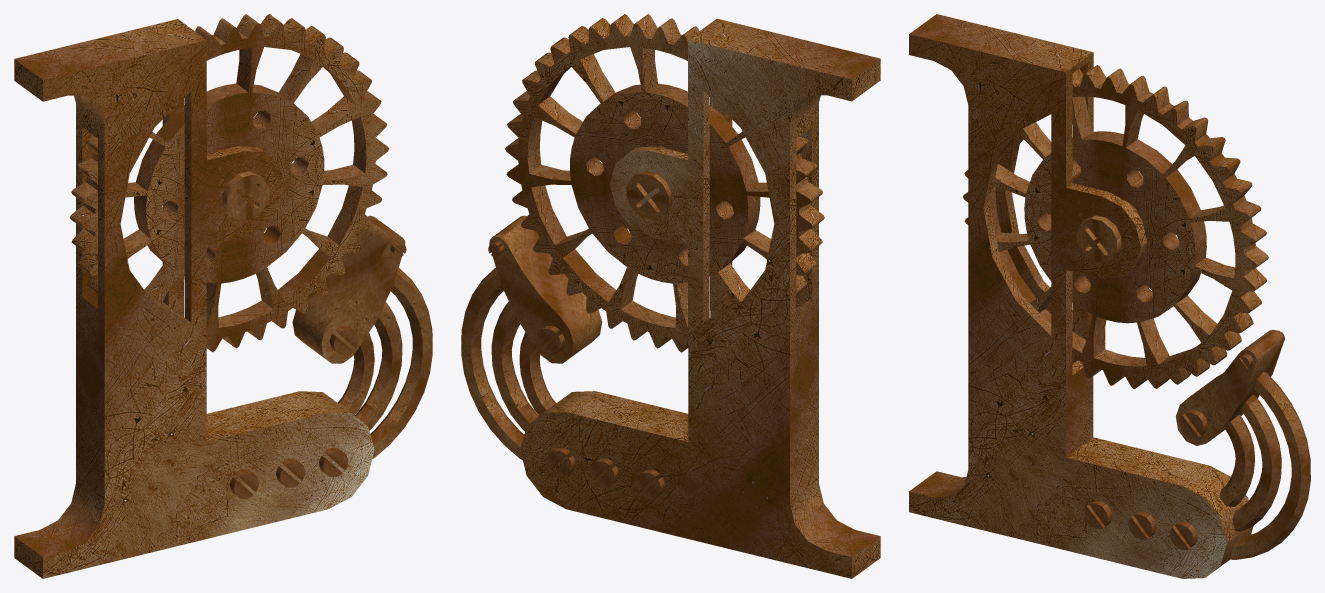
The picture shows the model from 3 angles, left to right: view 1: azimuth 30°, elevation 25°; view 2: azimuth 150°, elevation 25°; view 3: azimuth 330°, elevation 25°; orthographic projection. The views are drawn at different scales.
Parts seen in each view (by area): view 1: B, Cogwheel_317, Tube_521, Tube_519, Screw_623, Screw_634, Screw_624, Screw_619, Screw_625; view 2: B, Cogwheel_317, Tube_521, Tube_519, Screw_623, Screw_624, Screw_625, Screw_619, Screw_634; view 3: B, Cogwheel_317, Tube_519, Tube_521, Screw_623, Screw_624, Screw_625, Screw_619, Screw_634.
Boxes of the visible parts, x1=… form: B: x1=14, y1=19, x2=405, y2=578; Cogwheel_317: x1=69, y1=14, x2=389, y2=352; Tube_521: x1=370, y1=268, x2=432, y2=459; Tube_519: x1=337, y1=302, x2=402, y2=430; Screw_623: x1=222, y1=171, x2=269, y2=221; Screw_634: x1=329, y1=326, x2=358, y2=355; Screw_624: x1=276, y1=458, x2=305, y2=487; Screw_619: x1=319, y1=448, x2=348, y2=477; Screw_625: x1=230, y1=469, x2=258, y2=498; B: x1=489, y1=18, x2=880, y2=578; Cogwheel_317: x1=505, y1=14, x2=824, y2=352; Tube_521: x1=461, y1=267, x2=524, y2=460; Tube_519: x1=491, y1=301, x2=556, y2=431; Screw_623: x1=626, y1=171, x2=672, y2=219; Screw_624: x1=589, y1=458, x2=618, y2=487; Screw_625: x1=635, y1=469, x2=664, y2=498; Screw_619: x1=546, y1=448, x2=575, y2=477; Screw_634: x1=536, y1=326, x2=564, y2=354; B: x1=909, y1=14, x2=1283, y2=578; Cogwheel_317: x1=963, y1=65, x2=1268, y2=389; Tube_519: x1=1219, y1=395, x2=1281, y2=532; Tube_521: x1=1229, y1=371, x2=1310, y2=559; Screw_623: x1=1076, y1=203, x2=1139, y2=263; Screw_624: x1=1128, y1=511, x2=1156, y2=539; Screw_625: x1=1084, y1=500, x2=1112, y2=529; Screw_619: x1=1169, y1=521, x2=1197, y2=549; Screw_634: x1=1180, y1=409, x2=1207, y2=437.
Size of the model in its own units: 81.23 by 95.73 by 13.08.
Materials: 1 (1 with a texture image).
